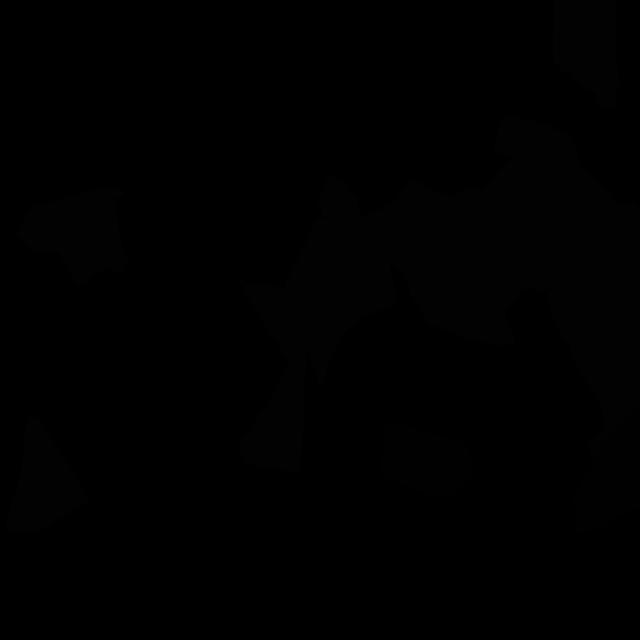cardboard: (284, 159, 555, 390), (493, 115, 640, 326), (359, 220, 515, 346), (237, 280, 307, 473), (554, 311, 640, 460), (15, 185, 129, 285), (4, 416, 91, 534), (553, 0, 620, 109)
rigid_plastic: (572, 409, 640, 535), (379, 418, 474, 497)
